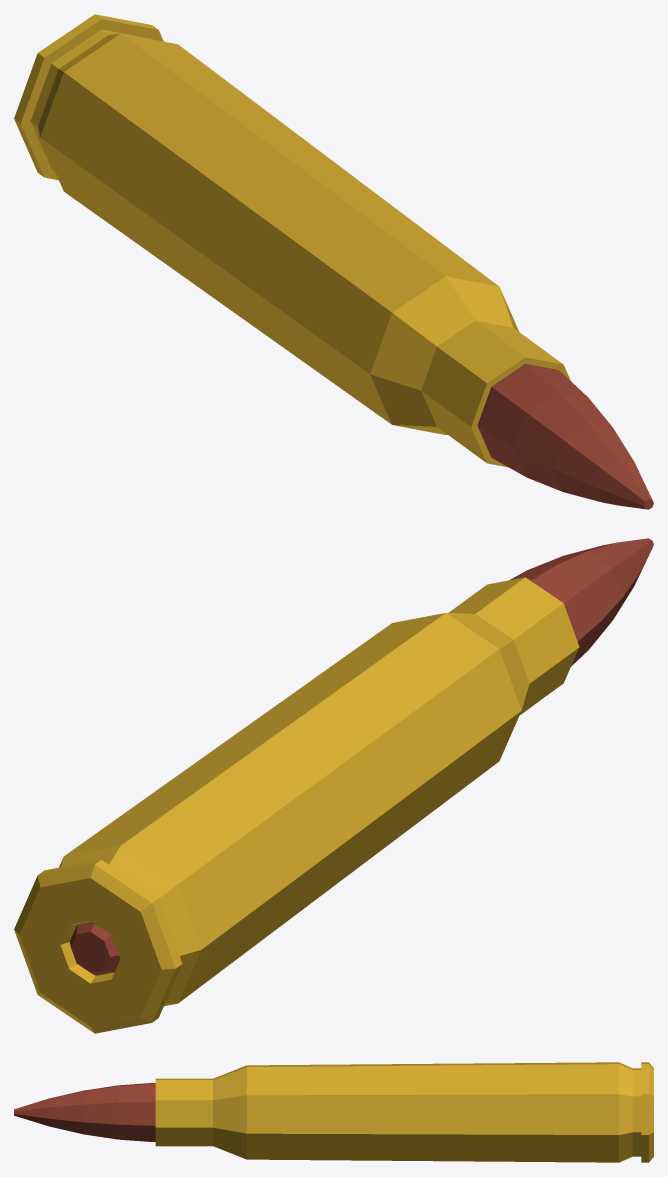
File: 5.56x45mm NATO.fbx
The picture shows the model from 3 angles, top to bottom: view 1: azimuth 30°, elevation 25°; view 2: azimuth 150°, elevation 25°; view 3: azimuth 270°, elevation 25°; orthographic projection. The views are drawn at different scales.
Visible parts, largest first — view 1: 5.56x45mm NATO, 5.56x45mm NATO Bullet; view 2: 5.56x45mm NATO, 5.56x45mm NATO Bullet; view 3: 5.56x45mm NATO, 5.56x45mm NATO Bullet.
Boxes of the visible parts, x1=… form: 5.56x45mm NATO: x1=14, y1=14, x2=570, y2=467; 5.56x45mm NATO Bullet: x1=477, y1=364, x2=653, y2=509; 5.56x45mm NATO: x1=14, y1=577, x2=579, y2=1033; 5.56x45mm NATO Bullet: x1=509, y1=538, x2=653, y2=666; 5.56x45mm NATO: x1=155, y1=1062, x2=653, y2=1162; 5.56x45mm NATO Bullet: x1=14, y1=1083, x2=155, y2=1141.
Size of the model in its own units: 0.96 by 0.96 by 5.74.
